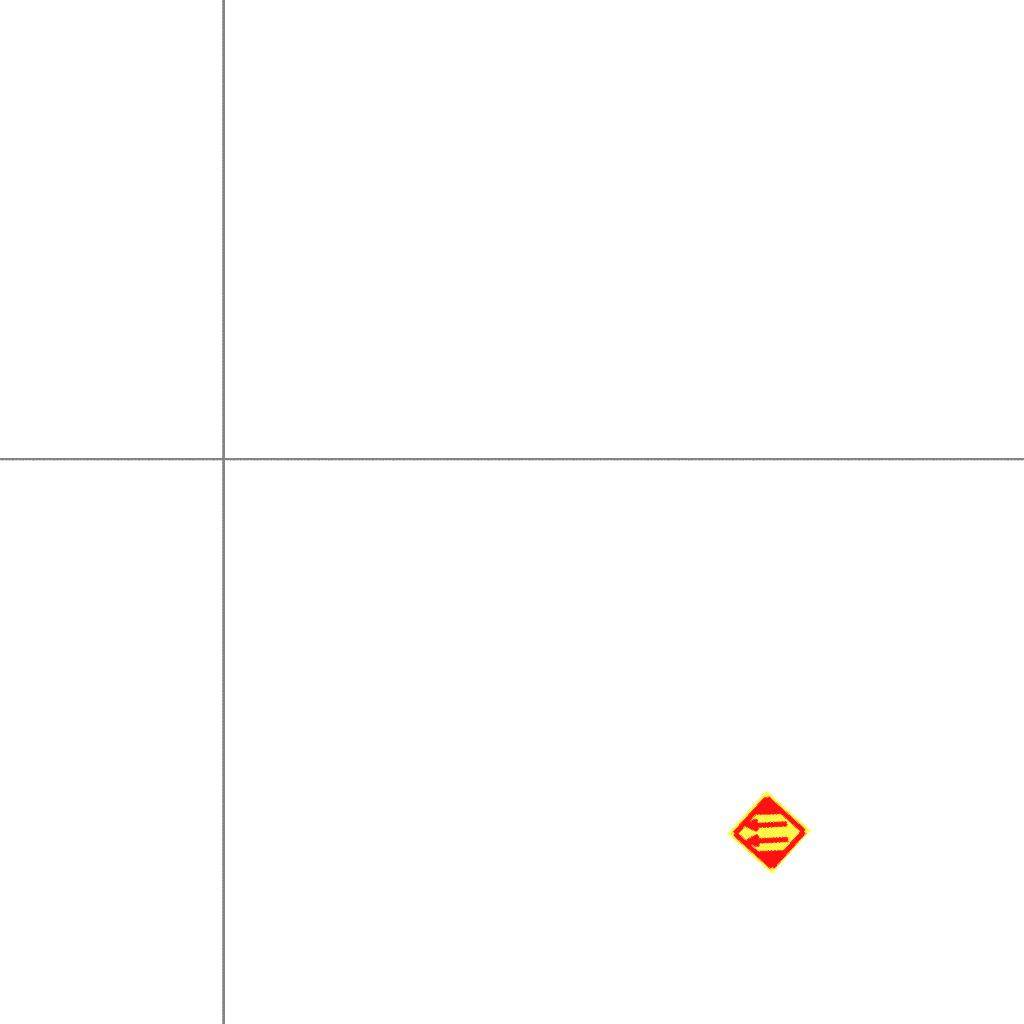ASR_Ansaugrauchmelder: (725, 788, 813, 876)
